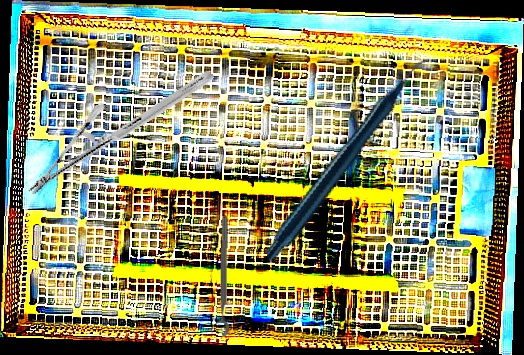Fixation Ring: (209, 215, 232, 338)
Handpiece: (226, 56, 474, 264)
Needle Holder: (26, 22, 216, 244)
